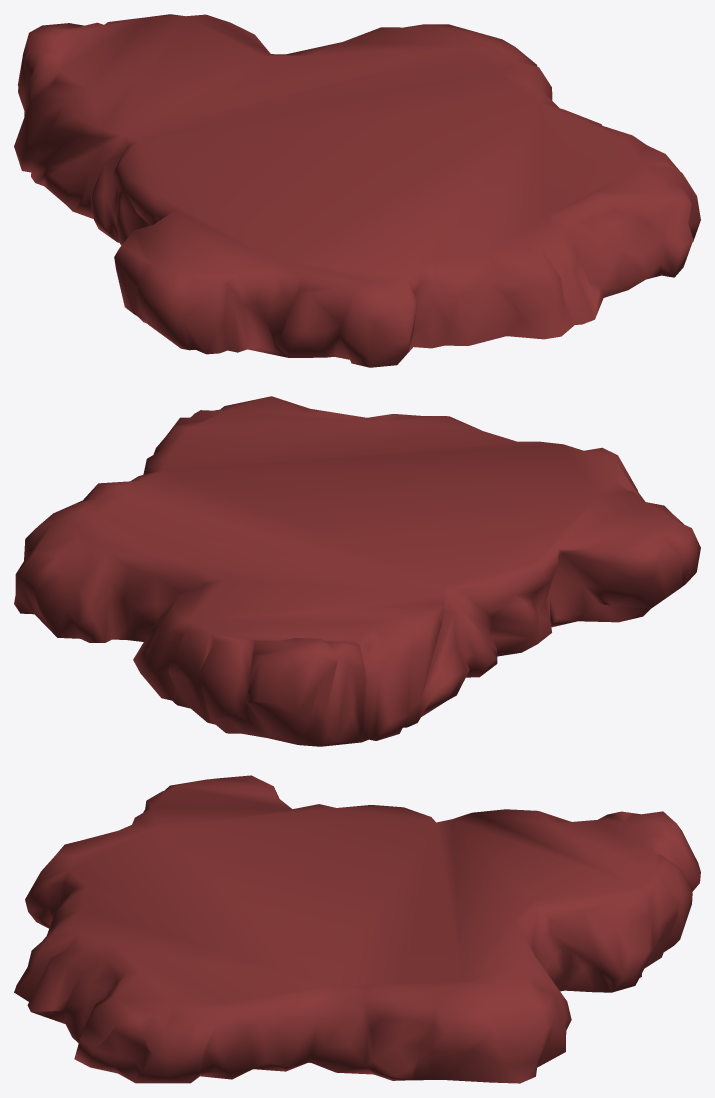
Rendered from SM_island_02.fbx.
The picture shows the model from 3 angles, top to bottom: view 1: azimuth 30°, elevation 25°; view 2: azimuth 150°, elevation 25°; view 3: azimuth 270°, elevation 25°; orthographic projection. The views are drawn at different scales.
Parts seen in each view (by area): view 1: island_02; view 2: island_02; view 3: island_02.
Boxes of the visible parts, left/top/right/bottom form: island_02: left=14, top=14, right=700, bottom=367; island_02: left=14, top=396, right=700, bottom=746; island_02: left=14, top=775, right=700, bottom=1083.
Bounding box in the file's own units: 2046 × 366 × 2379.
